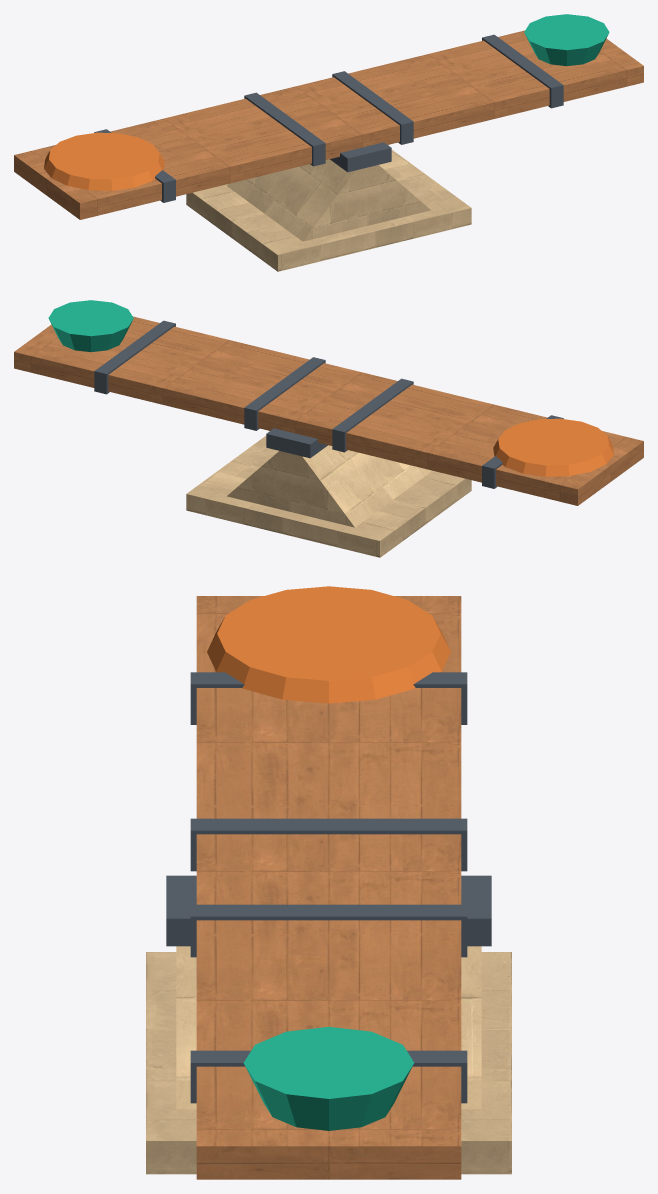
The model's file is seesaw.glb.
3 renders of one model, top to bottom at view 1: azimuth 30°, elevation 25°; view 2: azimuth 150°, elevation 25°; view 3: azimuth 270°, elevation 25°, orthographic. The views are drawn at different scales.
Parts seen in each view (by area): view 1: Seesaw_Plank, Seesaw_Fulcrum, Seesaw_GiantPad, Seesaw_Bands, Seesaw_SpriteCup; view 2: Seesaw_Plank, Seesaw_Fulcrum, Seesaw_GiantPad, Seesaw_Bands, Seesaw_SpriteCup; view 3: Seesaw_Plank, Seesaw_Fulcrum, Seesaw_GiantPad, Seesaw_Bands, Seesaw_SpriteCup.
Boxes of the visible parts, <box> form: Seesaw_Plank: <box>14,30,643,219</box>; Seesaw_Fulcrum: <box>186,150,471,271</box>; Seesaw_GiantPad: <box>44,132,164,190</box>; Seesaw_Bands: <box>94,34,563,202</box>; Seesaw_SpriteCup: <box>524,14,609,66</box>; Seesaw_Plank: <box>14,316,643,505</box>; Seesaw_Fulcrum: <box>186,436,471,557</box>; Seesaw_GiantPad: <box>493,418,613,476</box>; Seesaw_Bands: <box>94,320,563,488</box>; Seesaw_SpriteCup: <box>48,300,133,352</box>; Seesaw_Plank: <box>196,596,461,1179</box>; Seesaw_Fulcrum: <box>146,946,511,1174</box>; Seesaw_GiantPad: <box>207,586,450,703</box>; Seesaw_Bands: <box>166,672,491,1103</box>; Seesaw_SpriteCup: <box>243,1027,414,1130</box>.
Size of the model in its own units: 6.4 by 1.35 by 1.8.
Materials: 5 (2 with a texture image).
